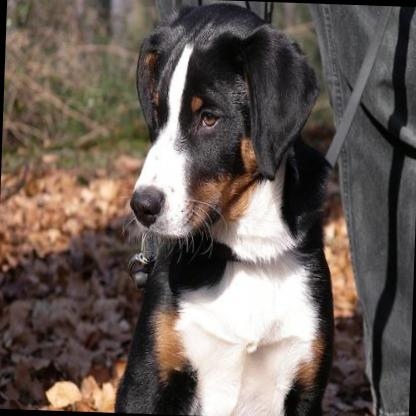Appenzeller: (113, 0, 345, 416)
